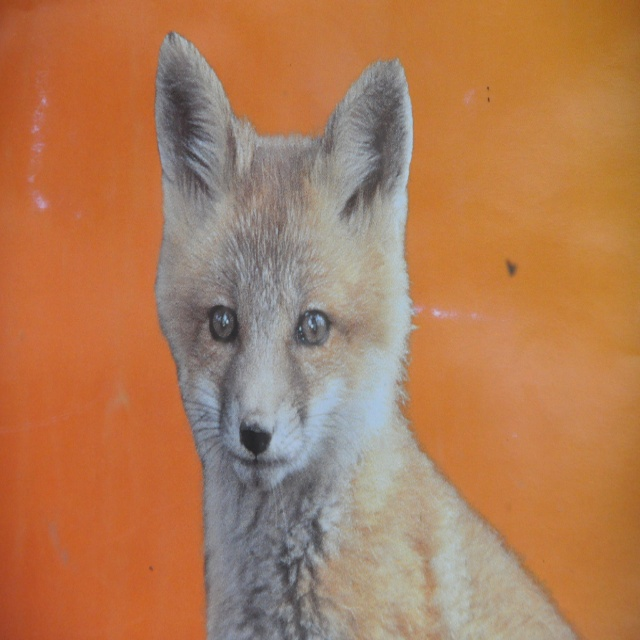Fox: (153, 30, 578, 640)
